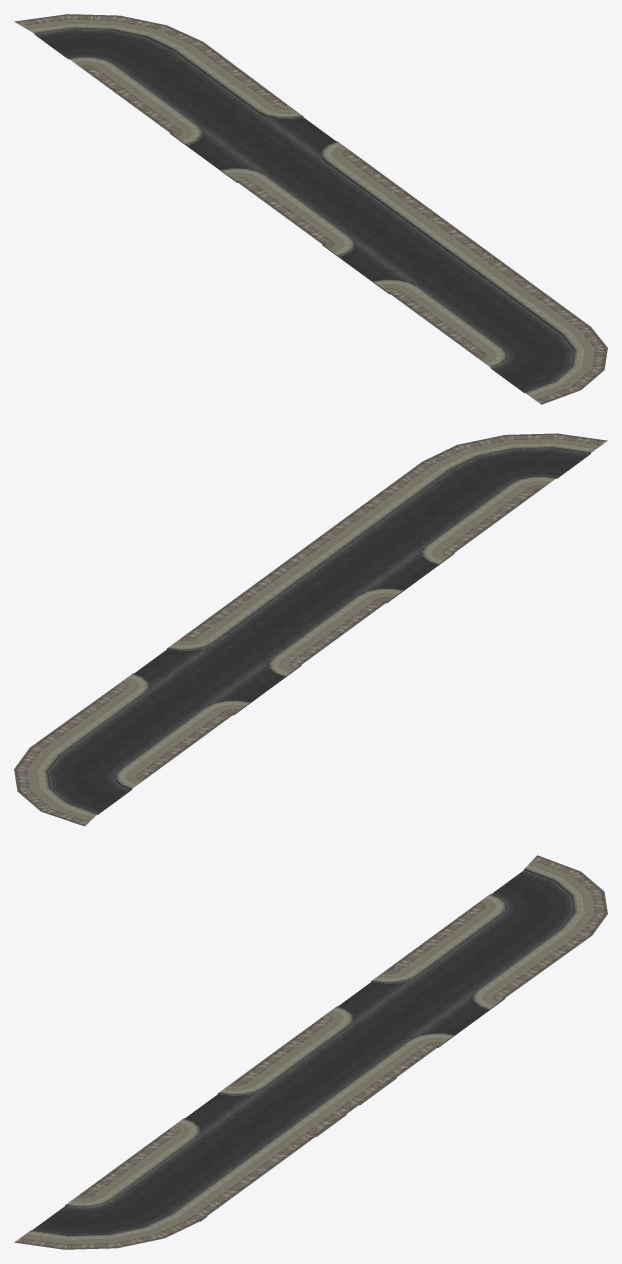
Rendered from cuntsrod05.obj.
The picture shows the model from 3 angles, top to bottom: view 1: azimuth 30°, elevation 25°; view 2: azimuth 150°, elevation 25°; view 3: azimuth 330°, elevation 25°; orthographic projection.
Parts seen in each view (by area): view 1: cuntsrod05; view 2: cuntsrod05; view 3: cuntsrod05.
Boxes of the visible parts, box(x1,y1,x2,y2) form: cuntsrod05: box(14, 14, 607, 404); cuntsrod05: box(14, 433, 607, 826); cuntsrod05: box(14, 855, 607, 1249).
Size of the model in its own units: 20.86 by 0.2863 by 155.
4 materials, 4 textured.
